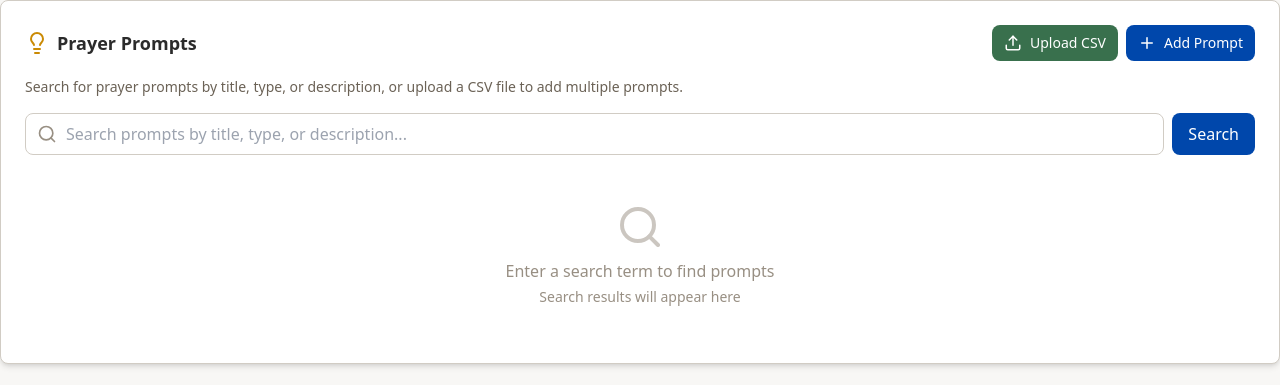
it: PromptManager Component › Search Functionality › displays "no prompts found" message when search returns empty
Step 1. Type "NonexistentPrompt" into the field with placeholder "Search prompts by title, type, or description..." → [595, 134], box [25,113,1164,155]
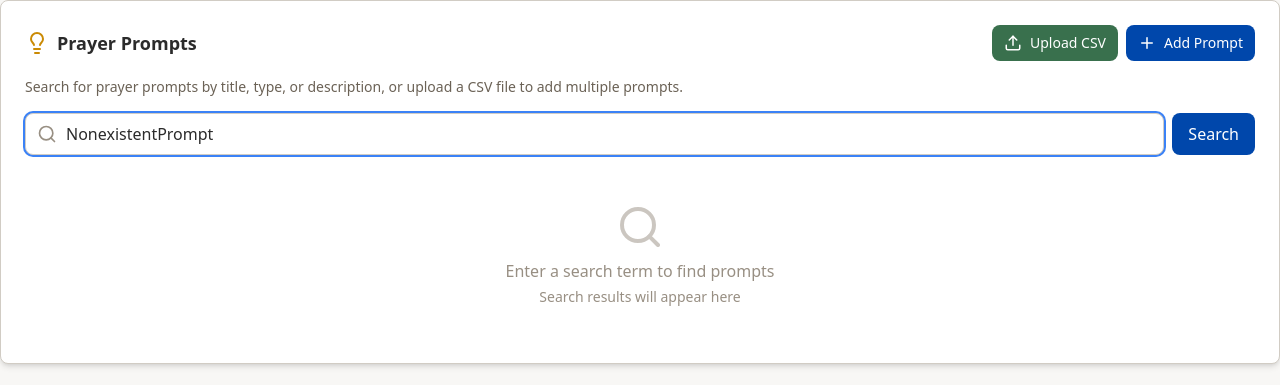
Step 2. Click the button "Search" → [1214, 134], box [1172,113,1255,155]
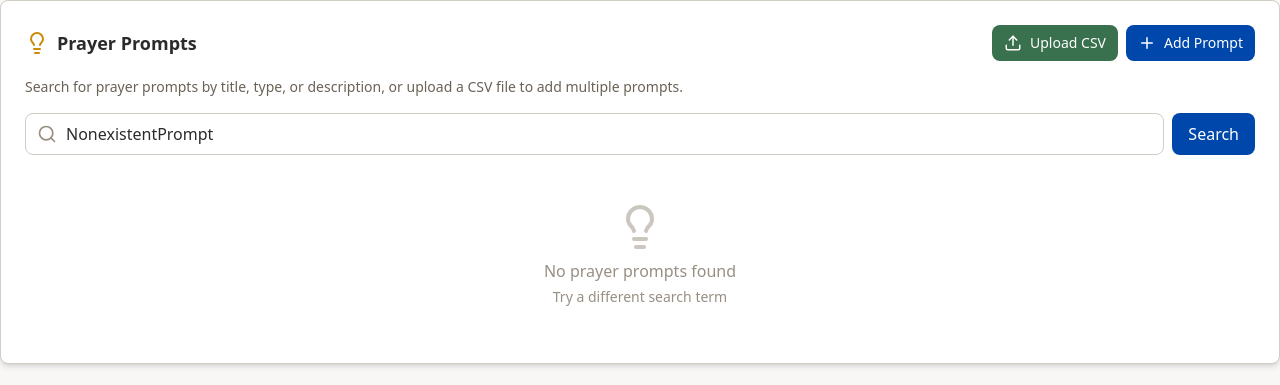
expect the text "No prayer prompts found" is shown: met, box [544,260,736,282]
